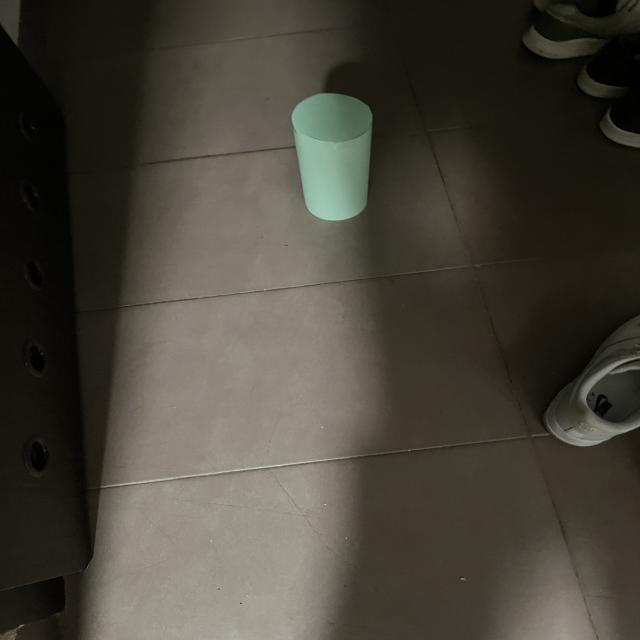meta: (291, 93, 372, 220)
